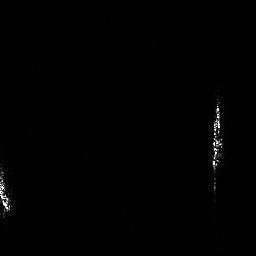ship: (210, 97, 227, 173), (1, 167, 15, 214)
